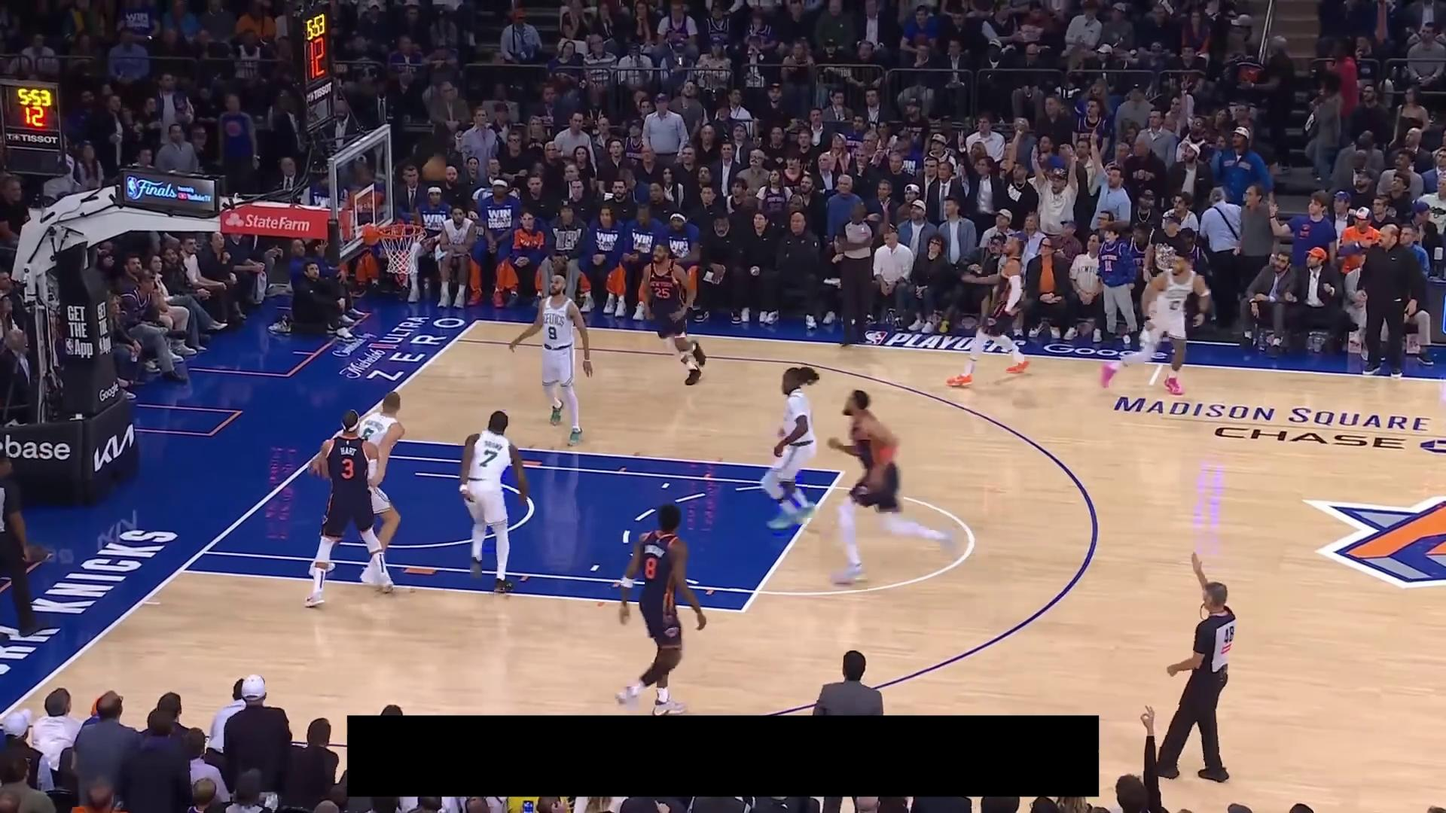ball: (423, 154, 448, 181)
number: (479, 449, 498, 467), (340, 458, 355, 480), (645, 556, 657, 580), (654, 285, 671, 300), (547, 324, 559, 341), (1169, 298, 1182, 312)
player: (825, 388, 961, 585), (615, 501, 708, 716), (309, 390, 406, 585), (304, 407, 395, 610), (1098, 251, 1213, 394), (508, 274, 594, 447), (458, 408, 532, 595), (945, 231, 1030, 387), (758, 364, 820, 531), (638, 242, 708, 386)
referee: (1155, 547, 1237, 784), (0, 452, 44, 638), (832, 201, 886, 349)
rim: (377, 223, 426, 239)
